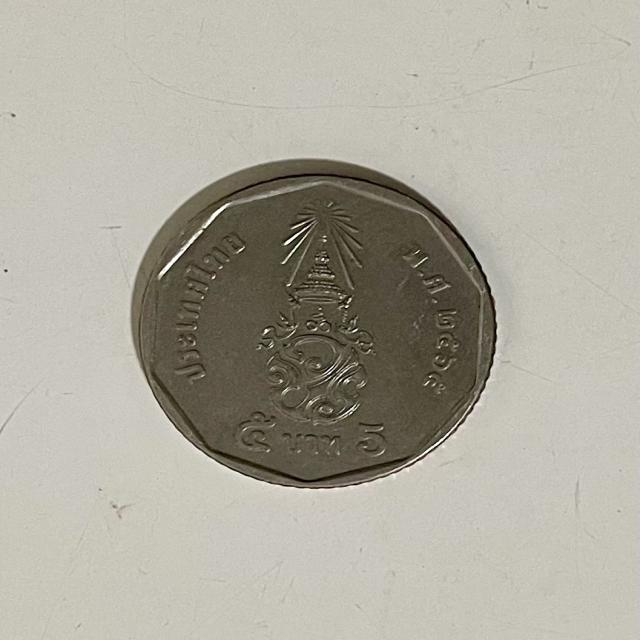5 Bath: (137, 168, 503, 494)
